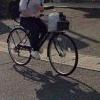bicycles: (6, 12, 79, 76)
